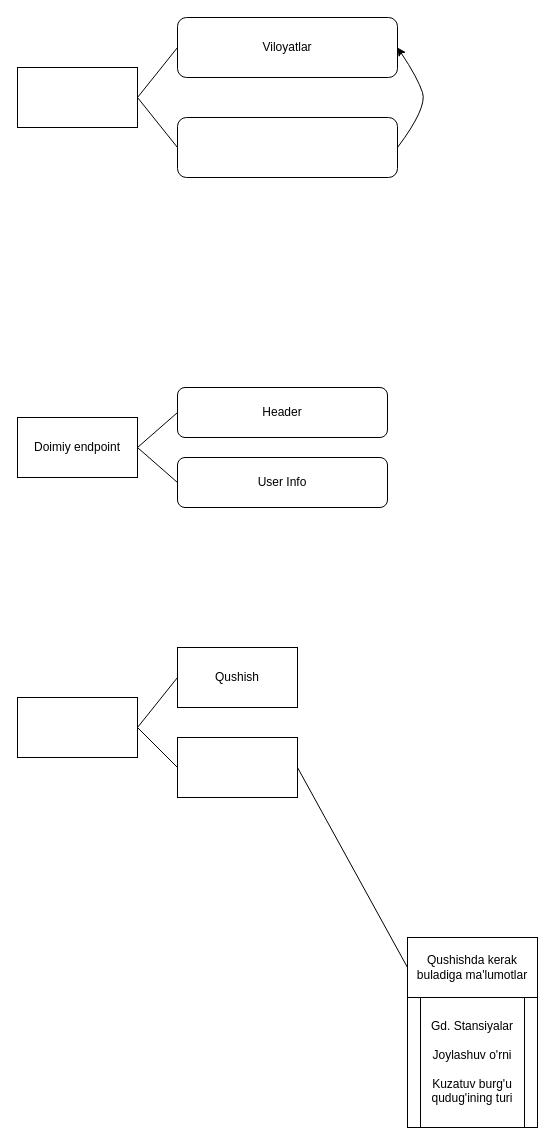
Some shapes in this 555 by 1145 pixel diagram are drawn without their labels. The shapes that lost their labels are listed below. From the top down, each one's centre as x and y in pixels, then its label:
At point (77, 97): "Common endpoints".
At point (287, 147): "Tumanlar".
At point (77, 727): "Gidrologiya".
At point (237, 767): "Ma'lumot Olish".
